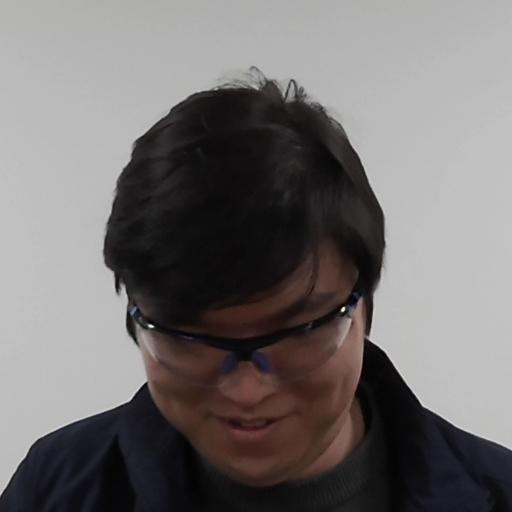glasses: (107, 98, 390, 485)
